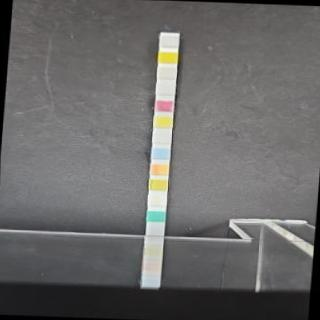mark: (152, 115, 173, 128), (149, 162, 169, 175), (157, 67, 176, 80), (152, 131, 171, 144), (159, 36, 179, 48), (154, 100, 174, 112), (152, 147, 170, 160), (158, 52, 177, 64), (148, 178, 167, 190), (146, 210, 165, 222), (156, 83, 174, 95), (148, 194, 166, 206)
